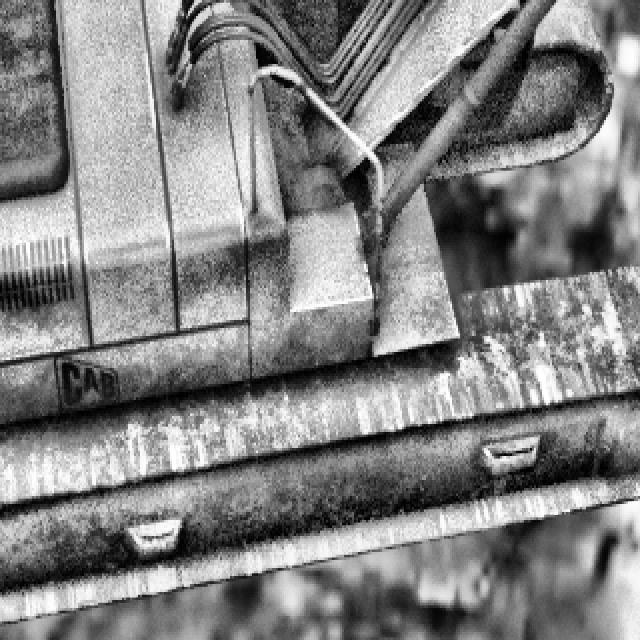excavator: (0, 0, 640, 627)
